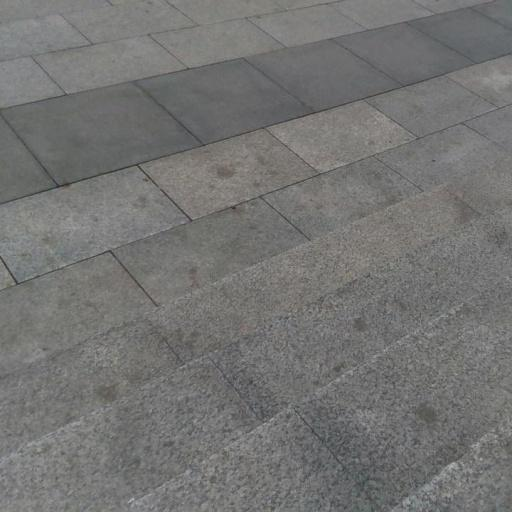stairs: (0, 164, 511, 511)
